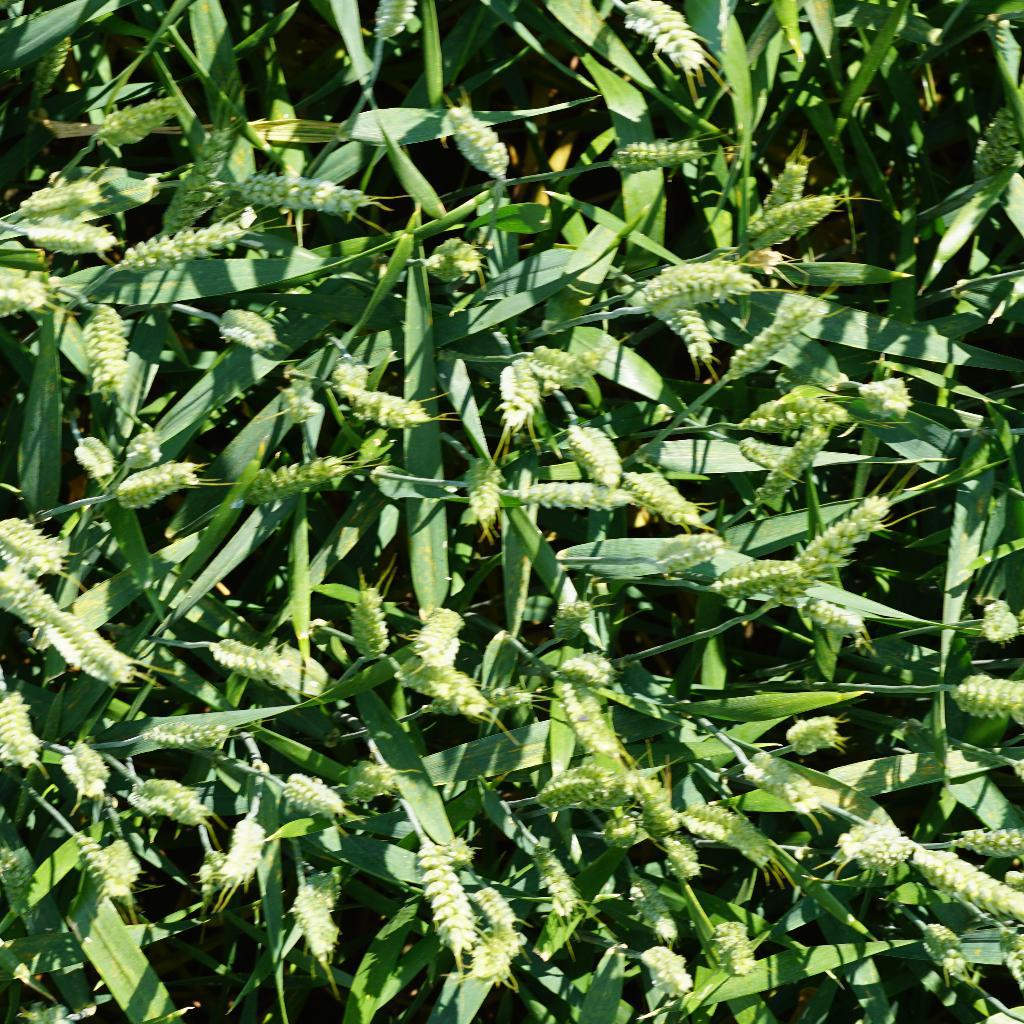0-0: (787, 489, 907, 578), (709, 292, 826, 377), (916, 838, 1024, 924), (550, 657, 634, 765), (746, 430, 848, 518), (167, 116, 239, 231), (408, 843, 478, 959), (111, 220, 264, 272), (635, 276, 719, 368), (235, 165, 377, 219), (681, 796, 780, 870), (44, 613, 137, 691), (387, 655, 496, 720), (636, 257, 758, 314), (627, 0, 716, 77), (623, 459, 709, 538), (601, 120, 716, 175), (743, 191, 840, 253), (18, 205, 120, 262), (516, 471, 638, 516), (736, 740, 815, 808), (748, 382, 855, 432), (447, 101, 516, 178), (129, 768, 213, 830), (526, 843, 591, 922), (836, 811, 918, 873), (620, 871, 691, 941), (291, 873, 350, 957), (564, 413, 628, 489), (796, 587, 882, 643), (82, 296, 130, 396), (220, 806, 271, 900), (0, 511, 71, 578), (66, 834, 141, 897), (246, 455, 347, 501), (703, 907, 768, 978), (202, 626, 292, 677), (408, 682, 541, 716), (530, 333, 606, 392), (642, 527, 728, 578), (971, 92, 1021, 179), (114, 456, 202, 505), (347, 579, 397, 665), (280, 762, 350, 823), (351, 378, 433, 430), (707, 556, 810, 597), (52, 736, 115, 803), (12, 169, 107, 213), (952, 671, 1024, 729), (0, 687, 48, 772), (420, 230, 486, 291), (144, 710, 234, 754), (93, 98, 179, 144), (638, 935, 701, 996), (535, 763, 616, 810), (459, 451, 508, 527), (788, 706, 851, 765), (410, 597, 467, 662), (496, 358, 546, 432), (913, 920, 972, 980), (216, 303, 283, 355), (0, 568, 63, 623), (631, 768, 681, 837), (0, 838, 47, 909), (344, 757, 410, 804), (64, 429, 122, 482), (859, 370, 922, 418), (470, 888, 524, 942), (470, 935, 530, 983), (975, 591, 1023, 651), (955, 813, 1024, 854), (769, 148, 818, 202), (192, 844, 234, 906), (548, 594, 593, 645), (0, 272, 49, 317), (373, 0, 423, 44), (322, 354, 373, 395), (123, 426, 168, 470), (660, 837, 704, 880), (594, 809, 639, 850), (274, 391, 311, 425), (0, 0, 62, 14)
